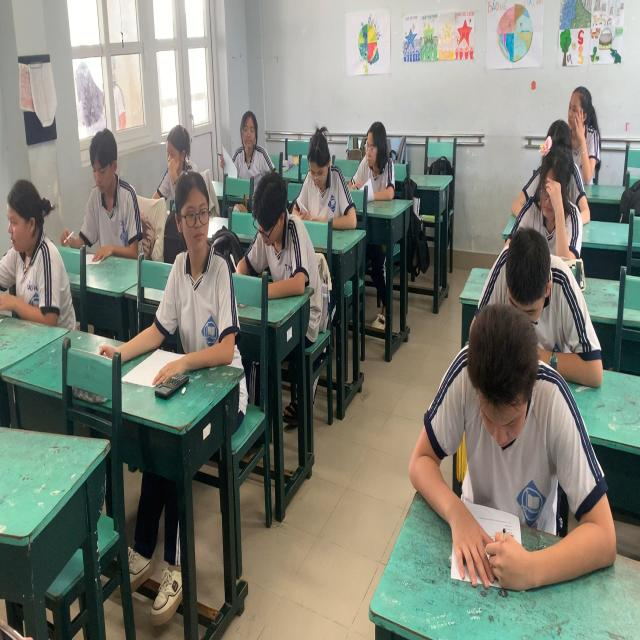cheating: (0, 170, 69, 333)
not_cheating: (412, 319, 600, 550), (160, 170, 238, 347), (81, 108, 133, 264), (246, 167, 302, 308), (295, 129, 353, 233), (492, 243, 553, 322), (532, 139, 571, 246), (353, 116, 400, 204), (225, 100, 269, 184), (552, 84, 596, 142), (157, 126, 186, 190)
